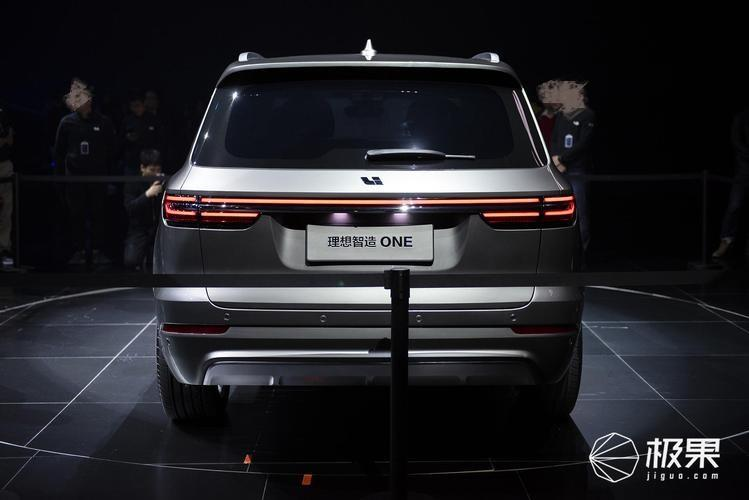Li Auto: (360, 177, 384, 185)
